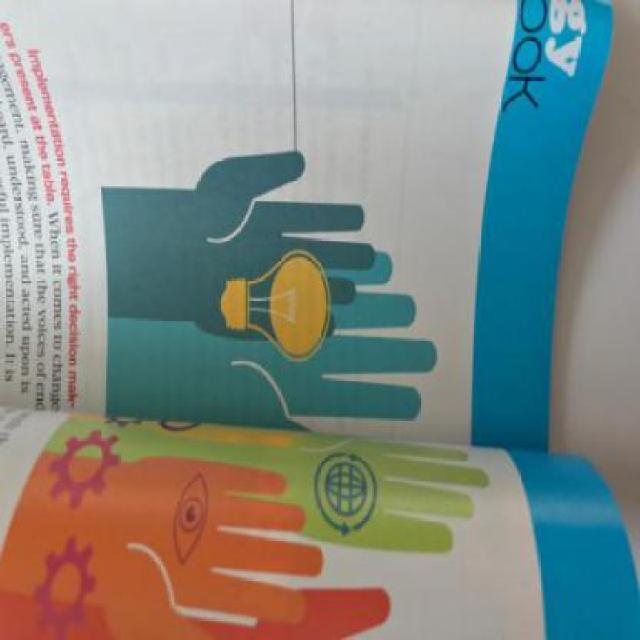paper: (0, 0, 638, 638), (0, 0, 614, 452), (0, 409, 638, 637)
